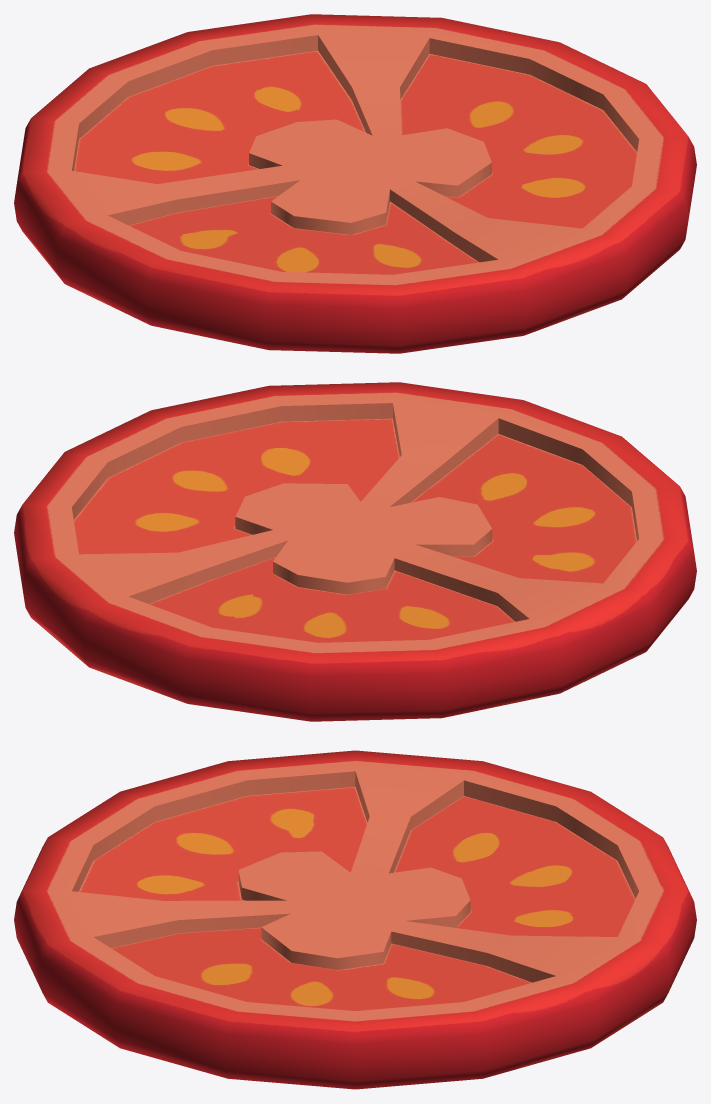
File: Tomato.fbx
3 renders of one model, top to bottom at view 1: azimuth 30°, elevation 25°; view 2: azimuth 150°, elevation 25°; view 3: azimuth 270°, elevation 25°, orthographic.
Parts seen in each view (by area): view 1: Tomato; view 2: Tomato; view 3: Tomato.
Part boxes in pixels (x1,y1,x2,y2): Tomato: (14, 14, 696, 353); Tomato: (14, 382, 696, 721); Tomato: (14, 750, 696, 1089).
Bounding box in the file's own units: 91.48 × 8.51 × 91.48.
